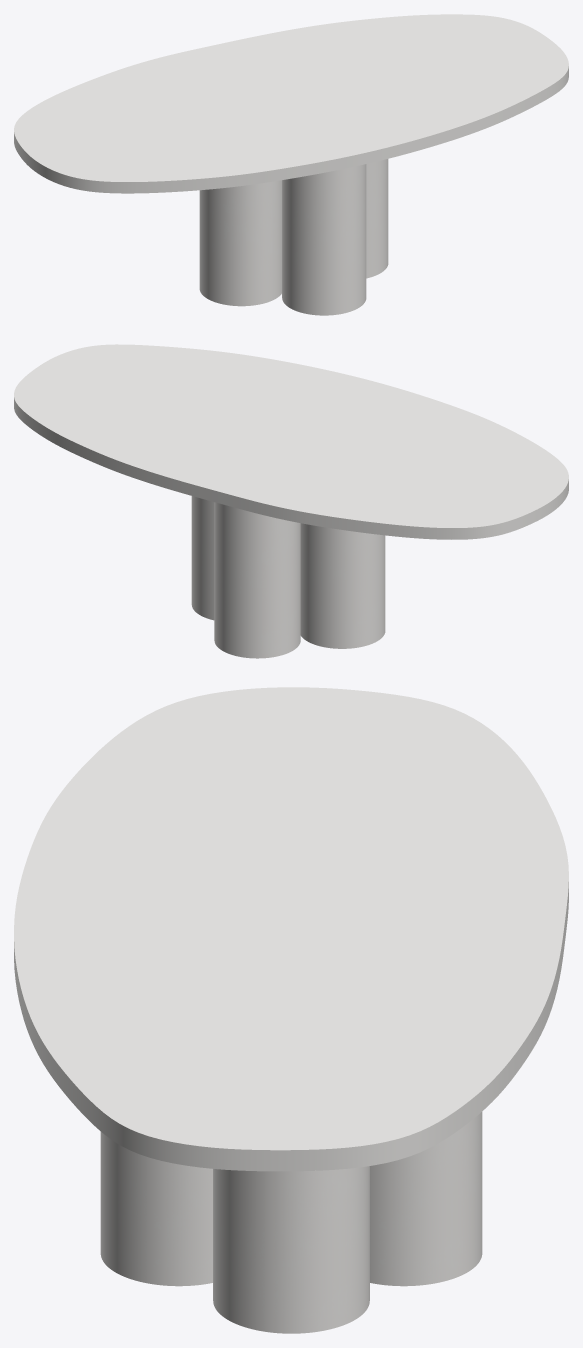
File: purewhite_danish_standard_secondtable.glb
3 views of the same model, one above another, from view 1: azimuth 30°, elevation 25°; view 2: azimuth 150°, elevation 25°; view 3: azimuth 270°, elevation 25° (orthographic). The views are drawn at different scales.
Parts seen in each view (by area): view 1: standard_danish, secondtable; view 2: standard_danish, secondtable; view 3: standard_danish, secondtable.
Part boxes in pixels (bbox=[...]): standard_danish: bbox=[14, 14, 568, 193]; secondtable: bbox=[199, 159, 388, 315]; standard_danish: bbox=[14, 344, 568, 539]; secondtable: bbox=[191, 496, 385, 658]; standard_danish: bbox=[14, 687, 568, 1171]; secondtable: bbox=[100, 1112, 482, 1333].
Bounding box in the file's own units: 7.5 × 2.5 × 3.8.
Materials: 1 (1 with a texture image).
